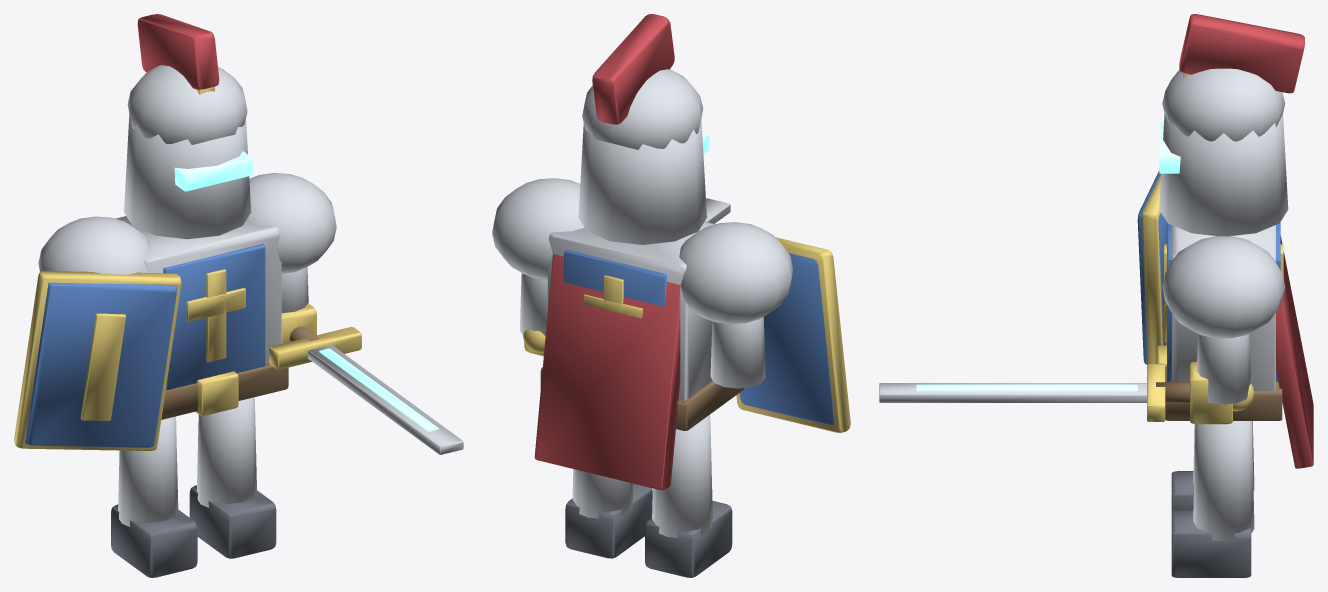
File: hero_knight.glb
3 views of the same model, side by side, from view 1: azimuth 30°, elevation 25°; view 2: azimuth 150°, elevation 25°; view 3: azimuth 270°, elevation 25° (orthographic).
Visible parts, largest first — view 1: ShieldBody, Helmet, Tabard, HelmetDome, PauldronR, LegMeshR, PauldronL, Torso, LegMeshL, ShieldRim, BootL, BootR (+12 smaller); view 2: Cape, Helmet, PauldronL, ShieldBody, Torso, PauldronR, HelmetDome, LegMeshL, Plume, ShieldRim, BootL, BootR (+8 smaller); view 3: Helmet, PauldronR, HelmetDome, LegMeshR, Plume, Cape, Torso, BootR, SwordBlade, UpperArmR, ShieldRim, SwordRune (+8 smaller).
Boxes of the visible parts, bbox=[...] form: ShieldBody: bbox=[25, 282, 176, 447]; Helmet: bbox=[124, 115, 251, 239]; Tabard: bbox=[163, 244, 265, 390]; HelmetDome: bbox=[127, 65, 247, 144]; PauldronR: bbox=[245, 173, 336, 273]; LegMeshR: bbox=[196, 397, 256, 507]; PauldronL: bbox=[38, 216, 151, 274]; Torso: bbox=[115, 216, 281, 363]; LegMeshL: bbox=[118, 416, 178, 526]; ShieldRim: bbox=[14, 271, 181, 450]; BootL: bbox=[111, 504, 197, 577]; BootR: bbox=[189, 485, 276, 558]; Cape: bbox=[534, 254, 680, 489]; Helmet: bbox=[578, 119, 706, 244]; PauldronL: bbox=[679, 222, 793, 324]; ShieldBody: bbox=[739, 253, 834, 425]; Torso: bbox=[547, 221, 714, 400]; PauldronR: bbox=[492, 178, 584, 279]; HelmetDome: bbox=[582, 69, 703, 149]; LegMeshL: bbox=[652, 414, 712, 537]; Plume: bbox=[592, 14, 674, 124]; ShieldRim: bbox=[736, 237, 850, 432]; BootL: bbox=[645, 500, 732, 577]; BootR: bbox=[565, 483, 652, 558]; Helmet: bbox=[1159, 114, 1288, 236]; PauldronR: bbox=[1162, 236, 1285, 338]; HelmetDome: bbox=[1162, 68, 1285, 141]; LegMeshR: bbox=[1193, 421, 1254, 541]; Plume: bbox=[1179, 14, 1304, 93]; Cape: bbox=[1276, 236, 1313, 468]; Torso: bbox=[1171, 225, 1275, 390]; BootR: bbox=[1171, 510, 1251, 577]; SwordBlade: bbox=[879, 383, 1146, 402]; UpperArmR: bbox=[1196, 333, 1250, 404]; ShieldRim: bbox=[1142, 174, 1163, 363]; SwordRune: bbox=[916, 384, 1137, 391].
Bounding box in the file's own units: 1.25 × 1.9 × 1.41.
